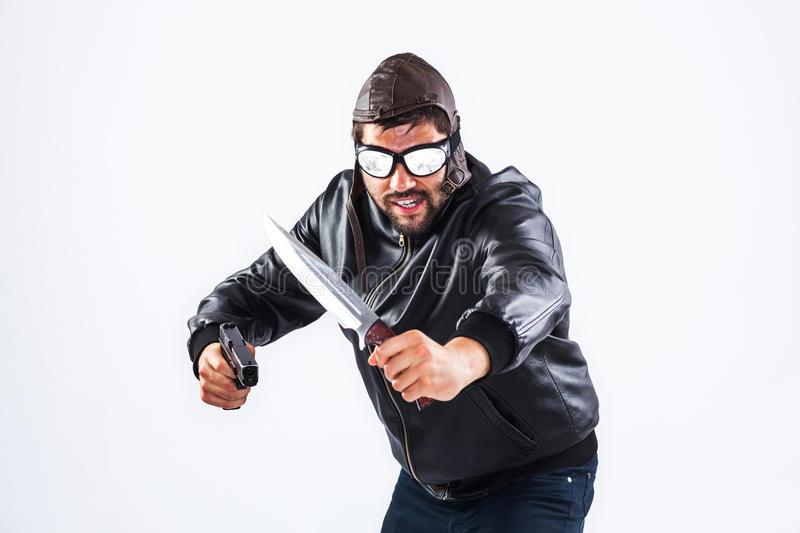criminal: (184, 49, 602, 533)
weapon: (257, 208, 436, 414), (215, 318, 261, 413)
